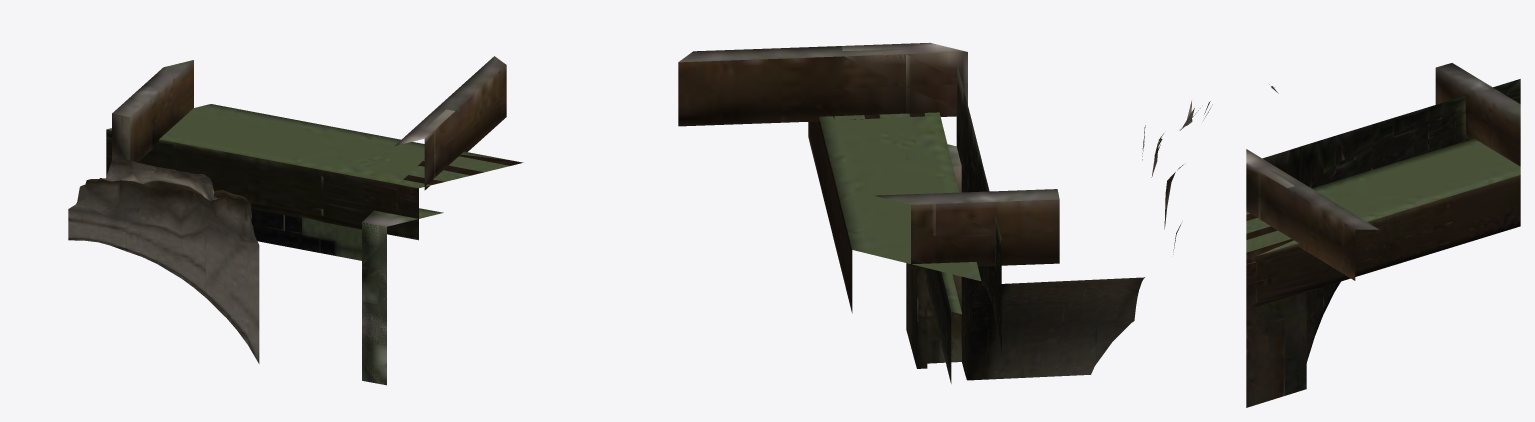
The picture shows the model from 3 angles, left to right: view 1: azimuth 30°, elevation 25°; view 2: azimuth 150°, elevation 25°; view 3: azimuth 270°, elevation 25°; orthographic projection. The views are drawn at different scales.
Size of the model in its own units: 3.51 by 2.1 by 2.06.
Materials: 1 (1 with a texture image).
